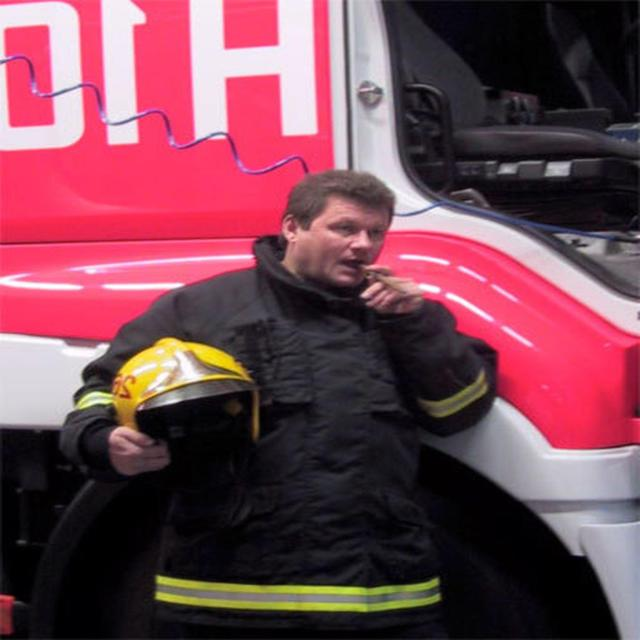smoking: (282, 164, 428, 318)
